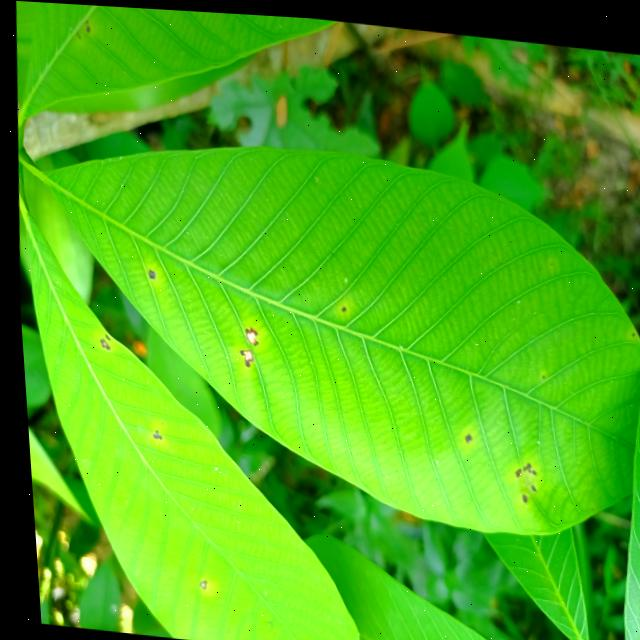Colletotrichum: (144, 268, 153, 277), (191, 577, 200, 586), (508, 461, 516, 471), (459, 428, 466, 436), (515, 488, 521, 496), (100, 333, 107, 339), (146, 431, 154, 436), (240, 357, 245, 364), (526, 462, 530, 469), (525, 478, 529, 484), (250, 337, 254, 342), (235, 347, 239, 352), (338, 303, 342, 307)
